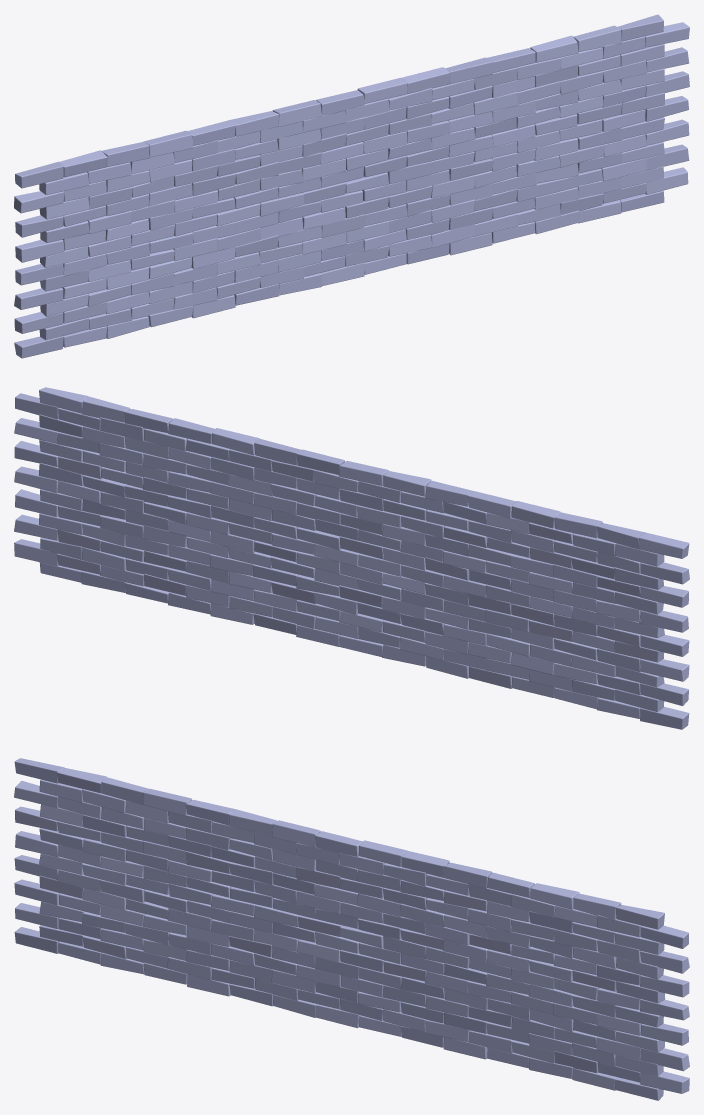
File: BrickWall.fbx
3 views of the same model, one above another, from view 1: azimuth 30°, elevation 25°; view 2: azimuth 150°, elevation 25°; view 3: azimuth 330°, elevation 25° (orthographic).
Visible parts, largest first — view 1: BrickWall; view 2: BrickWall; view 3: BrickWall.
Boxes of the visible parts, x1,y1,x2,y2 form: BrickWall: (14,14,689,358); BrickWall: (14,387,689,729); BrickWall: (14,758,689,1100).
Bounding box in the file's own units: 811 × 214 × 16.33.
